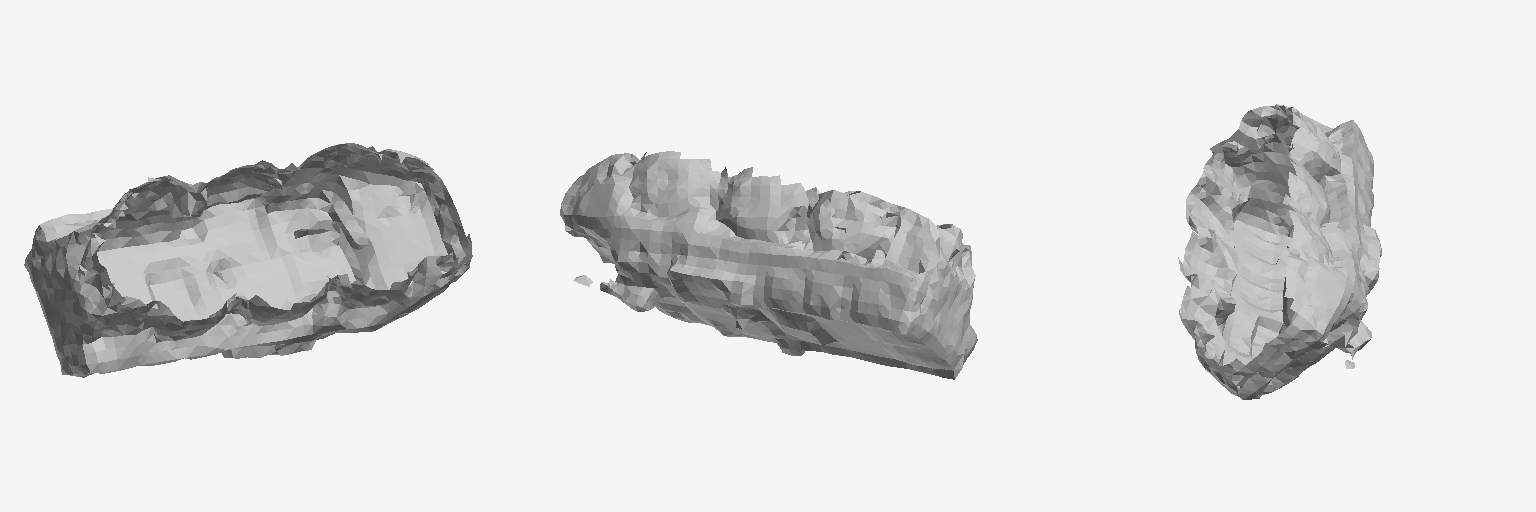
File: TruckLow.obj
The picture shows the model from 3 angles: view 1: azimuth 30°, elevation 25°; view 2: azimuth 150°, elevation 25°; view 3: azimuth 270°, elevation 25°; orthographic projection.
Size of the model in its own units: 1.45 by 0.6865 by 0.6579.